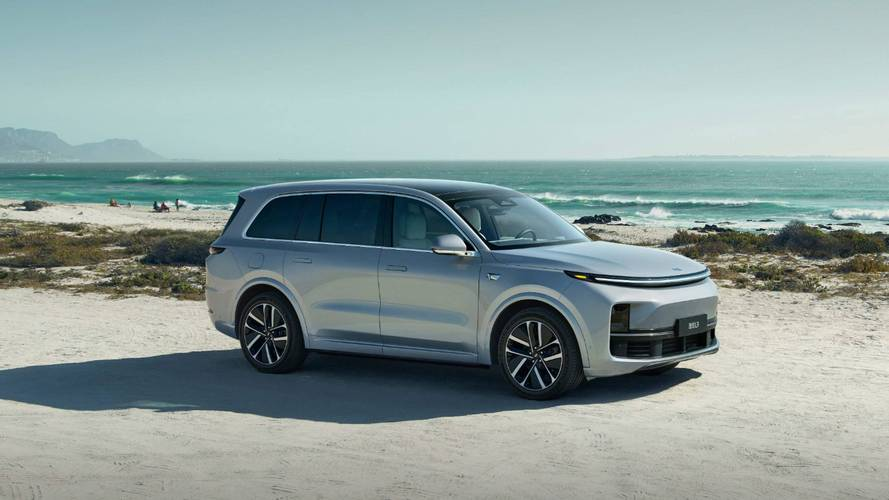汽车: (200, 178, 720, 392)
